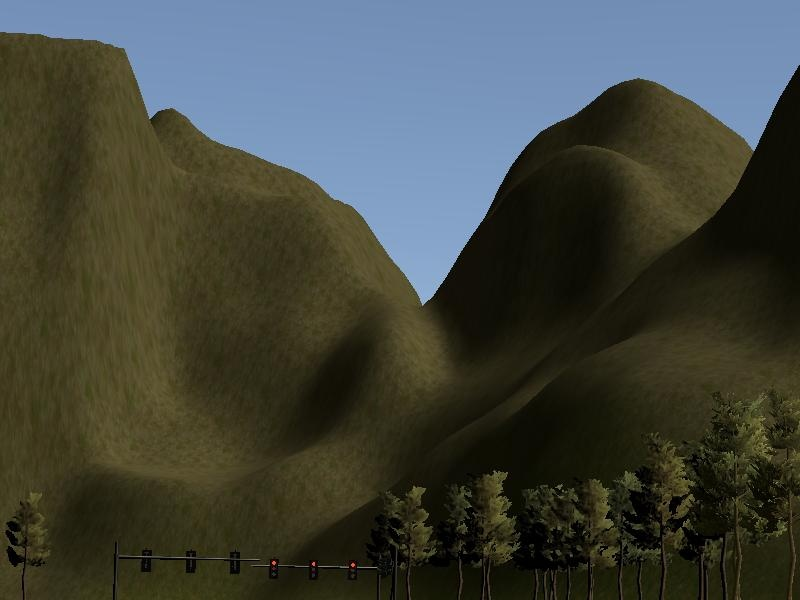red: (267, 556, 280, 583), (307, 557, 319, 581), (347, 557, 359, 581)
